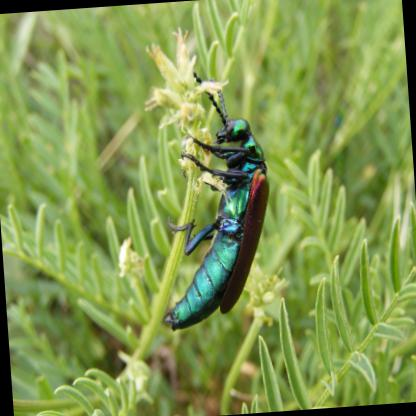blister beetle: (162, 75, 269, 332)
